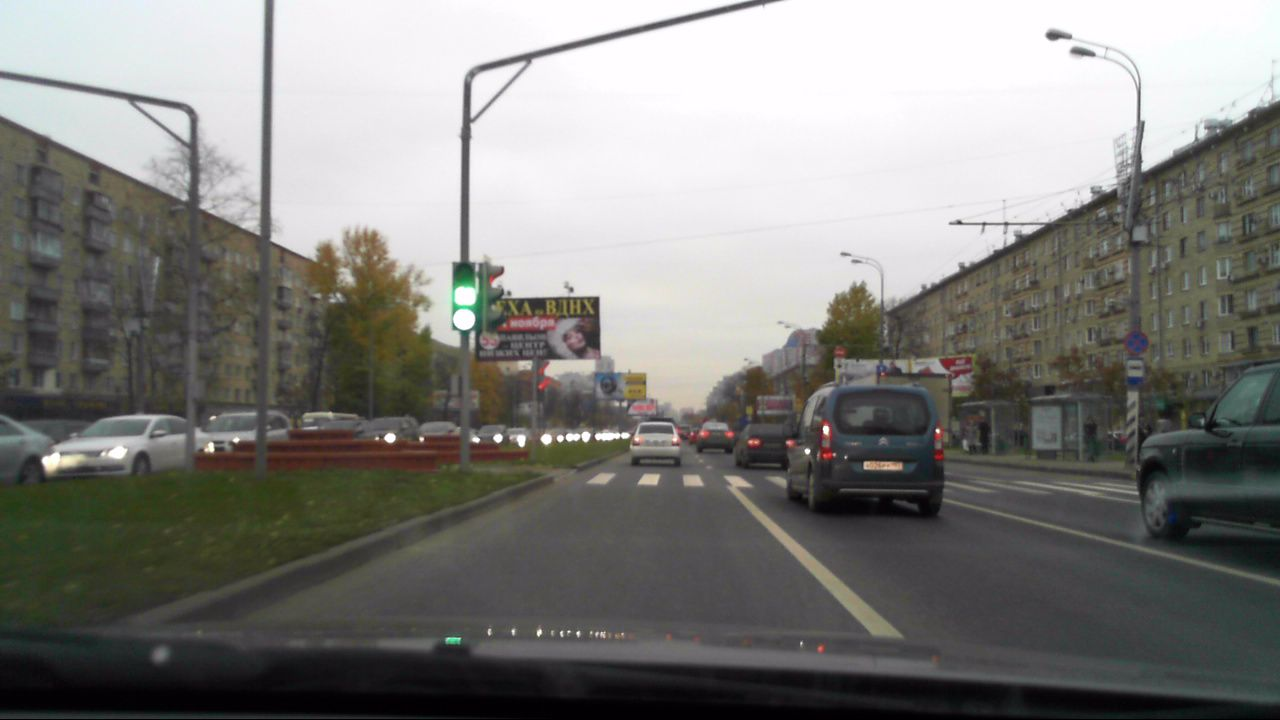No Parking: (1122, 331, 1145, 354)
